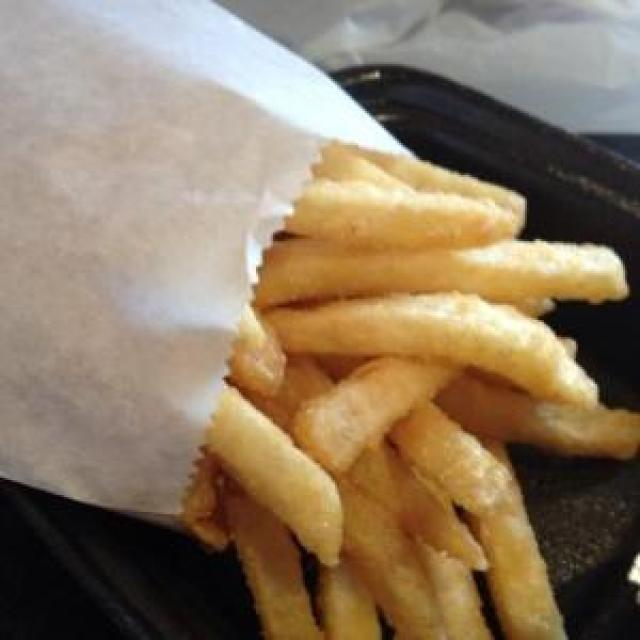French Fries: (209, 106, 640, 640)
